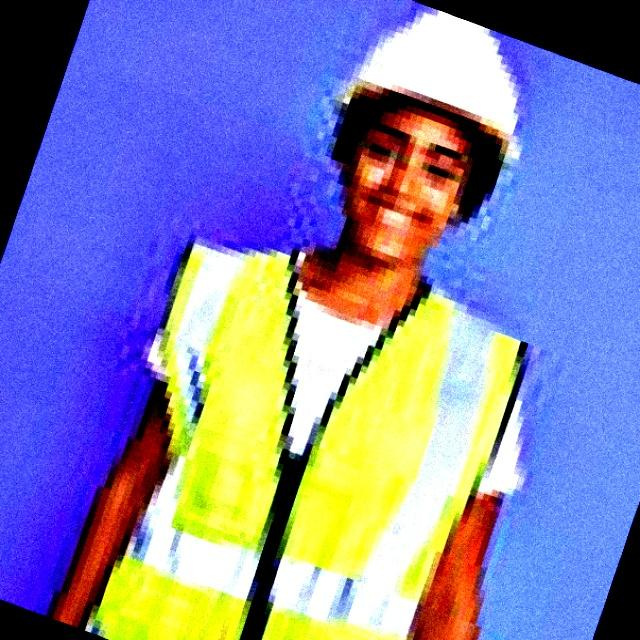helmet: (318, 12, 588, 154)
safety_vest: (84, 241, 570, 632)
